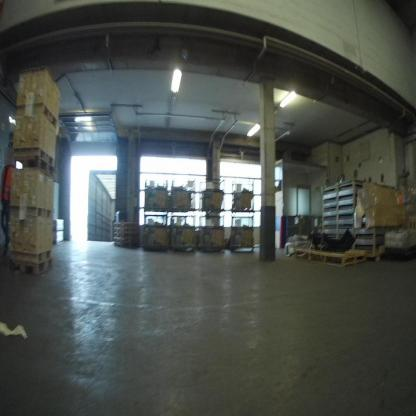pallet: (293, 245, 368, 267), (10, 257, 53, 278), (11, 156, 52, 177), (9, 201, 52, 216), (113, 226, 140, 234), (113, 242, 140, 249), (113, 231, 140, 237), (113, 237, 140, 243), (112, 221, 141, 226)
stillage: (169, 211, 196, 252), (200, 214, 226, 251), (142, 179, 170, 213), (143, 214, 168, 252), (230, 214, 255, 252), (199, 178, 225, 214), (170, 177, 195, 214), (232, 177, 254, 215)
